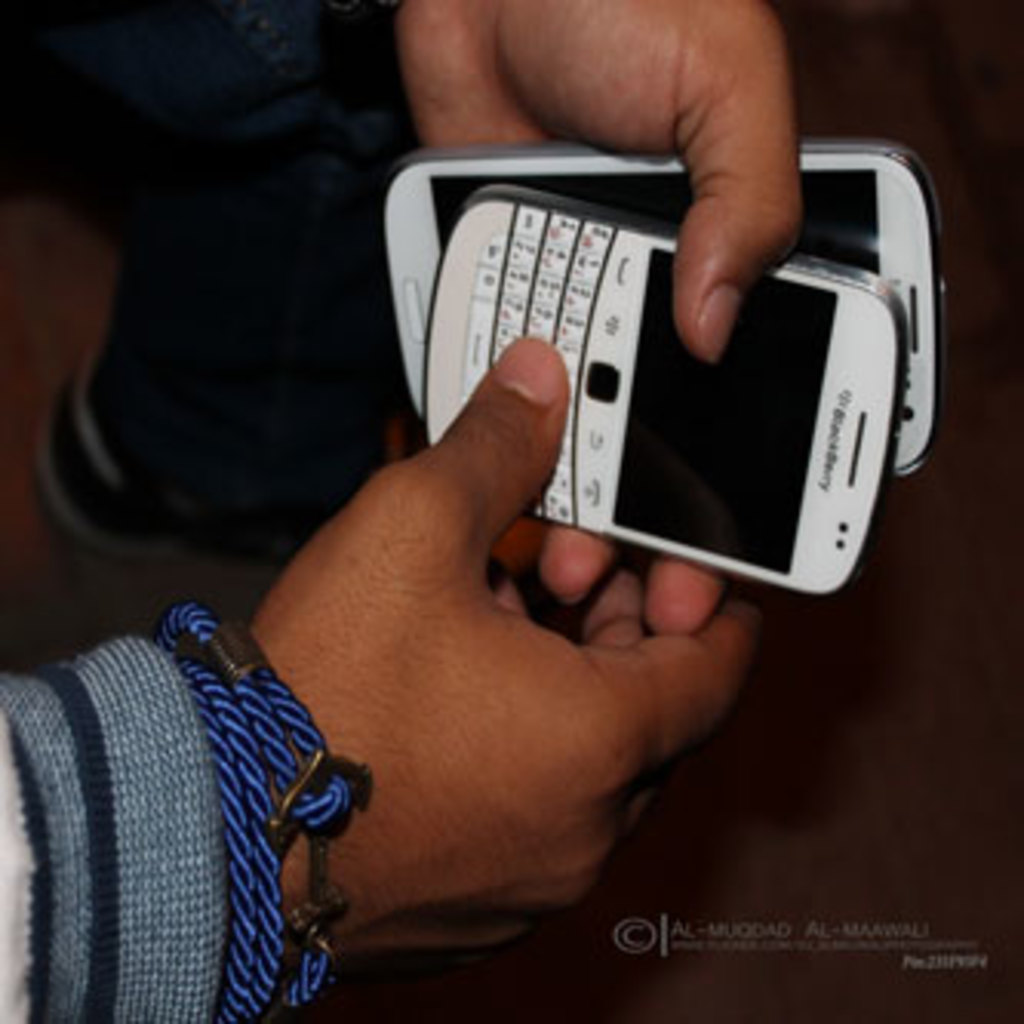Mobile-phone: (418, 181, 919, 600), (375, 141, 947, 492)
